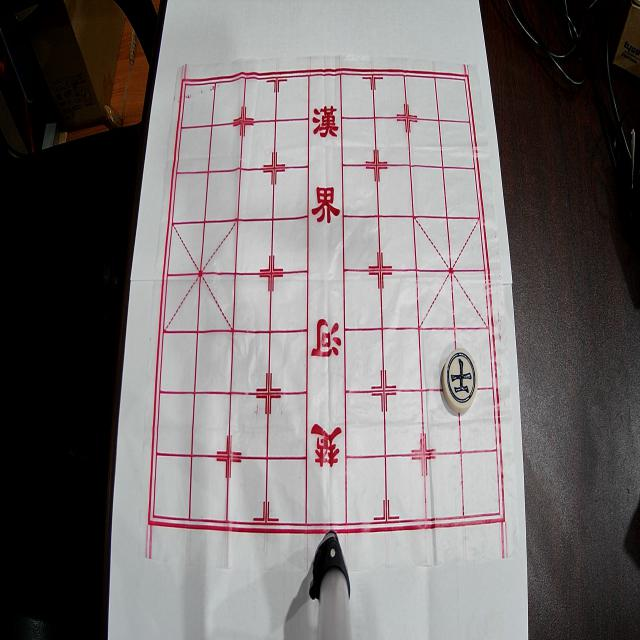black-guard: (442, 348, 478, 413)
